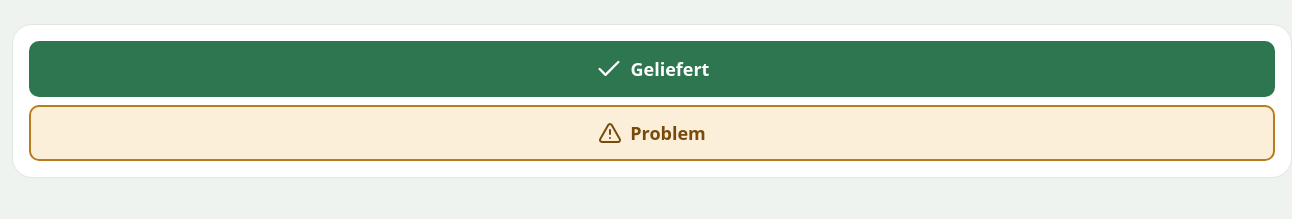
Scenario: StopStatusActions in de › does not navigate and says so when the phone cannot store the tap
The image size is (1292, 219).
Step 1. Click the button with test id "btn-delivered" → [652, 69], box [29,41,1275,97]
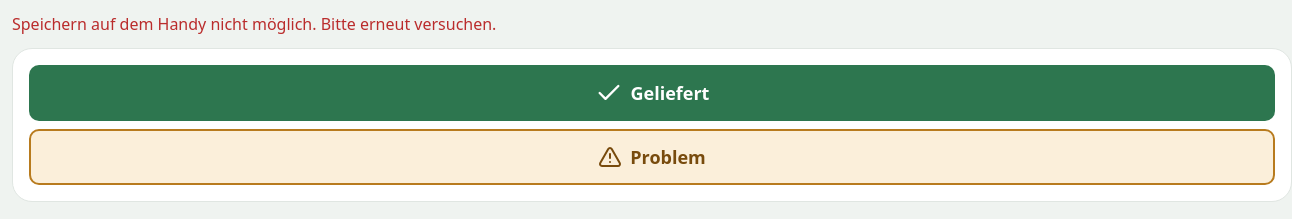
Now the message "Speichern auf dem Handy nicht möglich. Bitte erneut versuchen." is shown, box [12,13,496,35]
